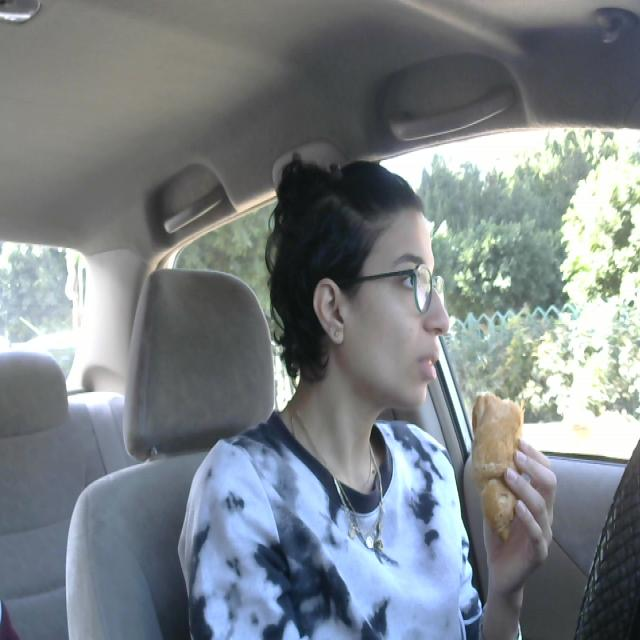eating: (462, 382, 534, 550)
